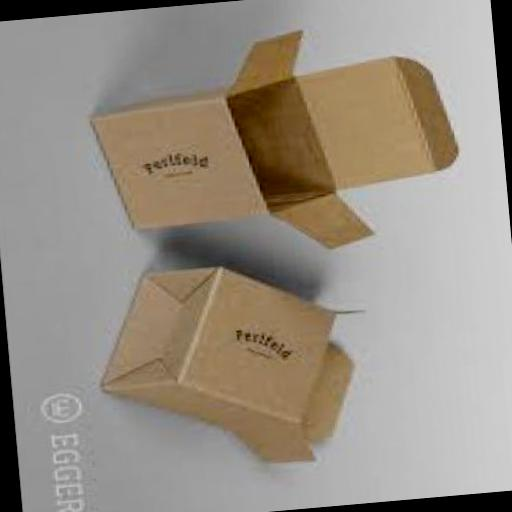cardboard: (88, 16, 468, 266), (90, 250, 380, 476)
